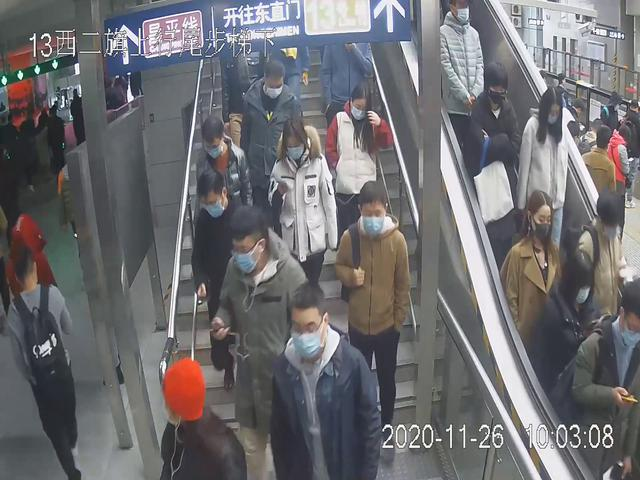person: (208, 202, 314, 480), (332, 178, 415, 473), (269, 283, 383, 480), (1, 248, 84, 480), (267, 116, 343, 336), (321, 78, 397, 285), (189, 161, 251, 395), (232, 58, 307, 222), (467, 59, 519, 277), (520, 80, 570, 277), (439, 1, 486, 172)
